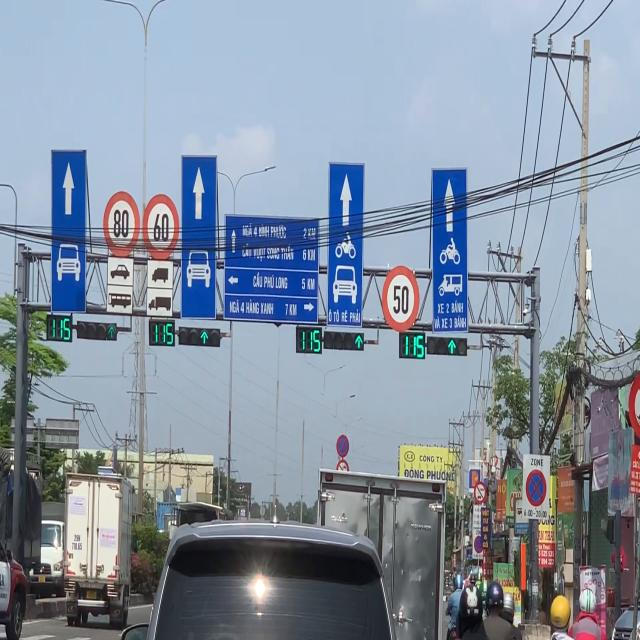Cam con lai: (474, 478, 486, 504)
Cam dung va do: (525, 469, 547, 507), (336, 434, 349, 457), (474, 536, 484, 554)
Toc do toi da: (382, 265, 420, 333), (103, 190, 140, 258), (143, 193, 180, 260)
